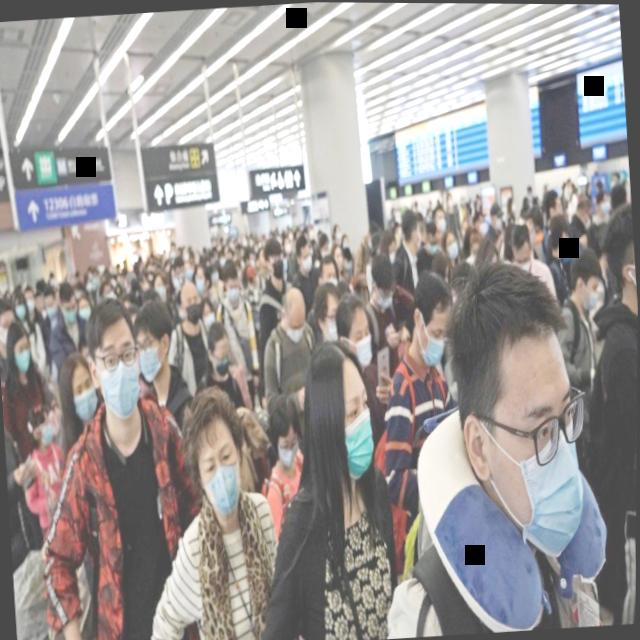Mask: (449, 268, 604, 572), (308, 341, 390, 485), (177, 387, 252, 521), (84, 299, 150, 424), (129, 285, 176, 384), (409, 277, 458, 371), (600, 204, 639, 315), (337, 291, 382, 367), (266, 390, 307, 472), (56, 352, 102, 425), (314, 279, 346, 350), (568, 246, 602, 308), (277, 286, 311, 344), (206, 319, 237, 382), (175, 278, 209, 335), (369, 252, 398, 313), (6, 320, 37, 377), (508, 221, 535, 273), (262, 238, 288, 282), (221, 258, 242, 302), (294, 235, 316, 276), (57, 281, 79, 321), (0, 302, 19, 348), (40, 285, 60, 318), (423, 219, 439, 256), (150, 267, 170, 296), (192, 261, 209, 295), (11, 288, 29, 320), (488, 200, 504, 231), (431, 201, 447, 232), (443, 232, 460, 257), (78, 294, 92, 322), (23, 285, 37, 312)
NO-Mask: (330, 241, 346, 271)
